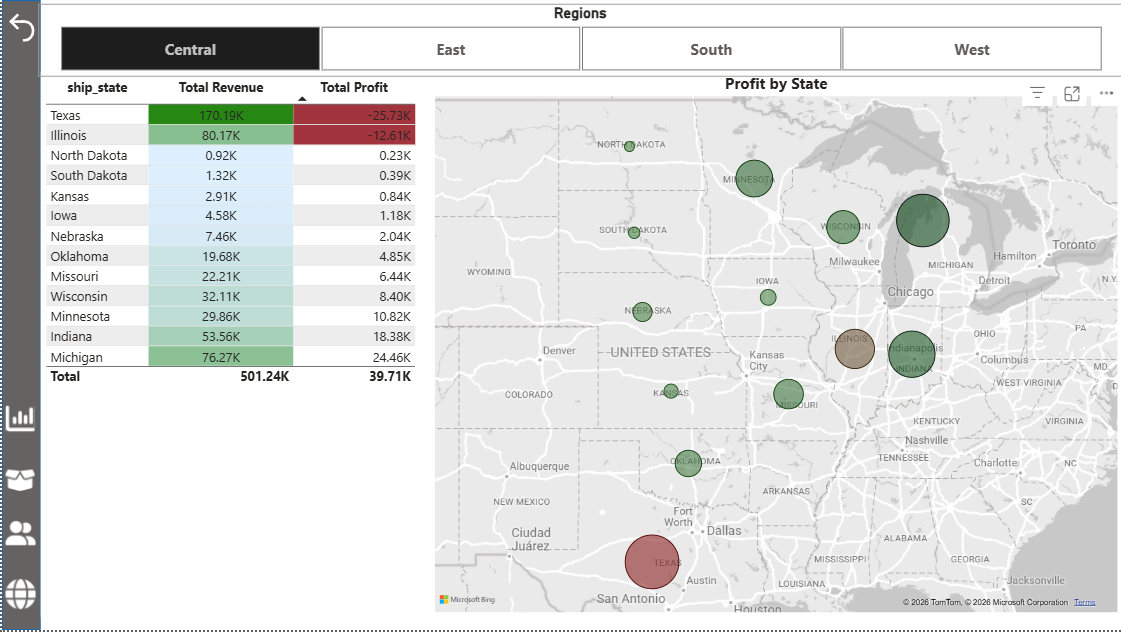

This screenshot's page, from the dashboard's own definition file:
{"tool":"powerbi","page":{"name":"Geographic Analysis","canvas":[1280,720],"ordinal":3},"visuals":[{"type":"group","id":"g1","title":"Sidebar","box":[0,0,44.3,720],"z":0},{"type":"map","title":"Profit by State","fields":{"Category":["public orders.ship_state"],"Size":["Measure.Total Profit"]},"box":[490.1,83.3,789.9,622],"z":1000},{"type":"tableEx","fields":{"Values":["public orders.ship_state","Measure.Total Revenue","Measure.Total Profit"]},"box":[44.8,83.3,445.3,622],"z":2000},{"type":"slicer","title":"Regions","fields":{"Values":["public orders.ship_region"]},"box":[41.1,3.7,1239,83.3],"z":3000},{"type":"shape","box":[0,0,44.3,720],"z":9000,"group":"g1"},{"type":"actionButton","box":[0,452.2,41.4,51.4],"z":11000,"group":"g2"},{"type":"actionButton","box":[0,517.9,41.4,60],"z":12000,"group":"g2"},{"type":"actionButton","box":[0,579.5,42.6,58.6],"z":13000,"group":"g2"},{"type":"actionButton","box":[0,652.8,42.6,52.9],"z":14000,"group":"g2"},{"type":"actionButton","box":[1.4,3.6,42.9,54.3],"z":15000,"group":"g2"},{"type":"group","id":"g2","title":"Bottoms","box":[0,3.6,44.3,702.1],"z":15001,"group":"g1"}]}

Visuals, with their boxes on the page's 1280x720 design canvas (x1, y1, x2, y2). These are canvas units, not pixel positions in the 1121x632 screenshot, which may show the page scaled, cropped or inside an application window:
"Sidebar" group: locate(0, 0, 44, 720)
"Profit by State" map: locate(490, 83, 1280, 705)
tableEx - public orders.ship_state x Measure.Total Revenue: locate(45, 83, 490, 705)
"Regions" slicer: locate(41, 4, 1280, 87)
shape: locate(0, 0, 44, 720)
actionButton: locate(0, 452, 41, 504)
actionButton: locate(0, 518, 41, 578)
actionButton: locate(0, 580, 43, 638)
actionButton: locate(0, 653, 43, 706)
actionButton: locate(1, 4, 44, 58)
"Bottoms" group: locate(0, 4, 44, 706)
